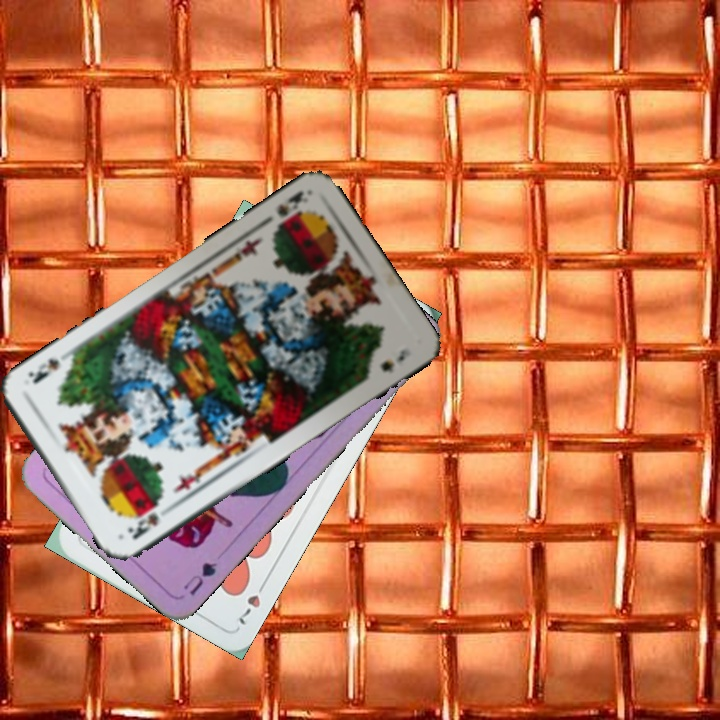GU: (179, 557, 220, 599)
H7: (234, 575, 270, 628)
SK: (123, 508, 161, 543), (273, 187, 311, 220)
